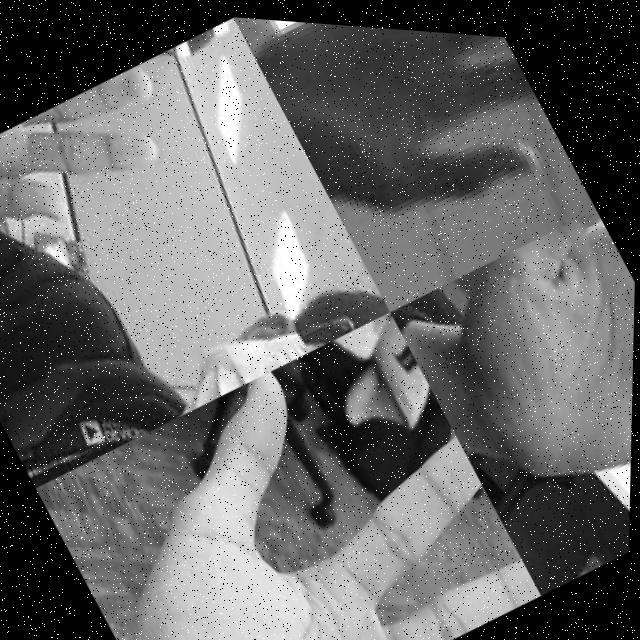no-gloves: (35, 286, 548, 640), (228, 13, 572, 268), (412, 189, 638, 522), (0, 53, 202, 315)
